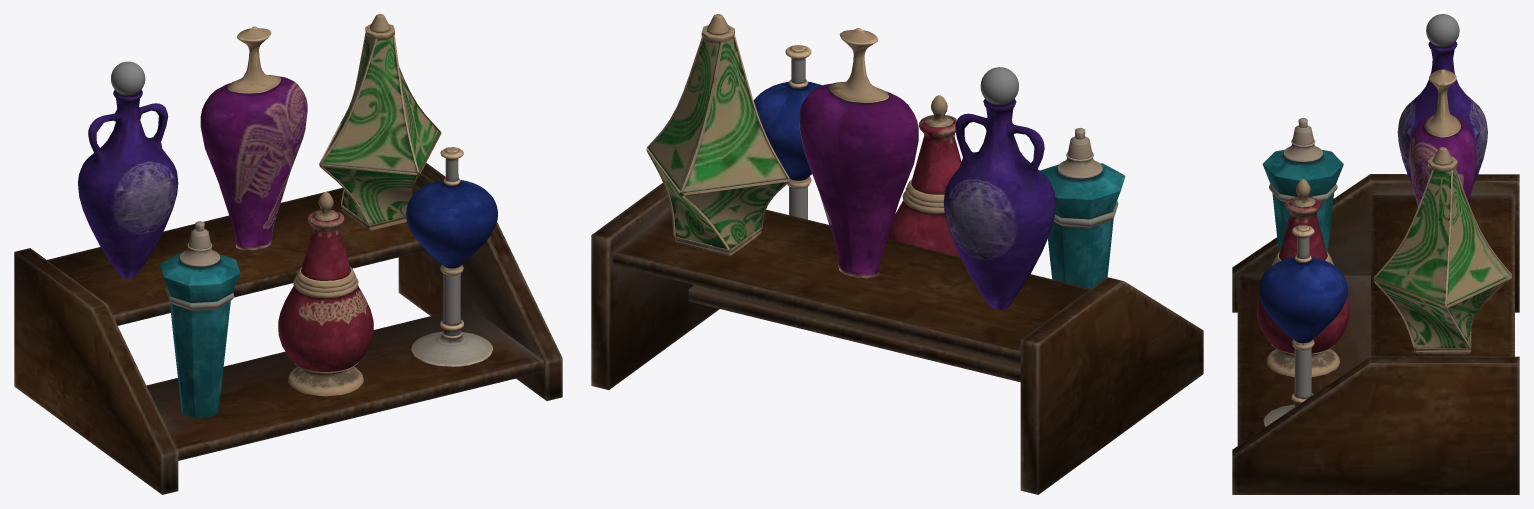
The model's file is potions2.glb.
The picture shows the model from 3 angles, left to right: view 1: azimuth 30°, elevation 25°; view 2: azimuth 150°, elevation 25°; view 3: azimuth 270°, elevation 25°; orthographic projection. The views are drawn at different scales.
Parts seen in each view (by area): view 1: Shelf01_shelf_mt_0, Potion04_potion04_glass_0, Potion07_potion07_glass_0, Potion06_potion06_glass_0, Potion01_potion01_glass_0, Potion03_potion03_glass_0, Potion02_potion02_glass_0, Potion02_potion02_metal_0, Potion01_potion01_metal_0, Potion06_potion06_metal_0, Potion04_potion04_metal_0, Potion03_potion03_metal_0 (+1 smaller); view 2: Shelf01_shelf_mt_0, Potion06_potion06_glass_0, Potion04_potion04_glass_0, Potion07_potion07_glass_0, Potion03_potion03_glass_0, Potion01_potion01_glass_0, Potion06_potion06_metal_0, Potion02_potion02_glass_0, Potion04_potion04_metal_0, Potion02_potion02_metal_0, Potion01_potion01_metal_0, Potion03_potion03_metal_0 (+1 smaller); view 3: Shelf01_shelf_mt_0, Potion06_potion06_glass_0, Potion02_potion02_glass_0, Potion03_potion03_glass_0, Potion07_potion07_glass_0, Potion01_potion01_glass_0, Potion04_potion04_glass_0, Potion06_potion06_metal_0, Potion02_potion02_metal_0, Potion01_potion01_metal_0, Potion04_potion04_metal_0, Potion03_potion03_metal_0 (+1 smaller).
Part boxes in pixels (bbox=[...]): Shelf01_shelf_mt_0: bbox=[14, 163, 562, 494]; Potion04_potion04_glass_0: bbox=[200, 76, 307, 250]; Potion07_potion07_glass_0: bbox=[78, 90, 178, 278]; Potion06_potion06_glass_0: bbox=[322, 35, 439, 224]; Potion01_potion01_glass_0: bbox=[278, 209, 373, 371]; Potion03_potion03_glass_0: bbox=[159, 253, 240, 418]; Potion02_potion02_glass_0: bbox=[406, 180, 497, 268]; Potion02_potion02_metal_0: bbox=[411, 147, 492, 366]; Potion01_potion01_metal_0: bbox=[288, 192, 363, 396]; Potion06_potion06_metal_0: bbox=[319, 14, 441, 230]; Potion04_potion04_metal_0: bbox=[227, 26, 280, 93]; Potion03_potion03_metal_0: bbox=[179, 221, 220, 267]; Shelf01_shelf_mt_0: bbox=[591, 183, 1203, 494]; Potion06_potion06_glass_0: bbox=[648, 38, 786, 248]; Potion04_potion04_glass_0: bbox=[799, 83, 918, 278]; Potion07_potion07_glass_0: bbox=[943, 98, 1055, 309]; Potion03_potion03_glass_0: bbox=[1040, 163, 1125, 288]; Potion01_potion01_glass_0: bbox=[887, 115, 961, 256]; Potion06_potion06_metal_0: bbox=[646, 14, 789, 255]; Potion02_potion02_glass_0: bbox=[753, 81, 822, 180]; Potion04_potion04_metal_0: bbox=[829, 28, 888, 103]; Potion02_potion02_metal_0: bbox=[785, 45, 811, 219]; Potion01_potion01_metal_0: bbox=[902, 95, 953, 213]; Potion03_potion03_metal_0: bbox=[1057, 128, 1102, 179]; Shelf01_shelf_mt_0: bbox=[1232, 174, 1519, 494]; Potion06_potion06_glass_0: bbox=[1375, 167, 1510, 347]; Potion02_potion02_glass_0: bbox=[1258, 257, 1347, 342]; Potion03_potion03_glass_0: bbox=[1262, 149, 1343, 251]; Potion07_potion07_glass_0: bbox=[1397, 41, 1487, 183]; Potion01_potion01_glass_0: bbox=[1256, 196, 1349, 353]; Potion04_potion04_glass_0: bbox=[1409, 113, 1476, 206]; Potion06_potion06_metal_0: bbox=[1373, 147, 1512, 353]; Potion02_potion02_metal_0: bbox=[1263, 225, 1314, 426]; Potion01_potion01_metal_0: bbox=[1266, 179, 1339, 376]; Potion04_potion04_metal_0: bbox=[1424, 69, 1461, 137]; Potion03_potion03_metal_0: bbox=[1283, 118, 1322, 162].
Bounding box in the file's own units: 48.59 × 39.3 × 31.06.
13 materials, 13 textured.
